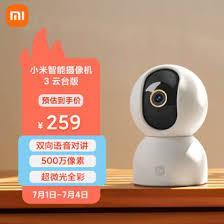maru: (129, 64, 209, 135)
